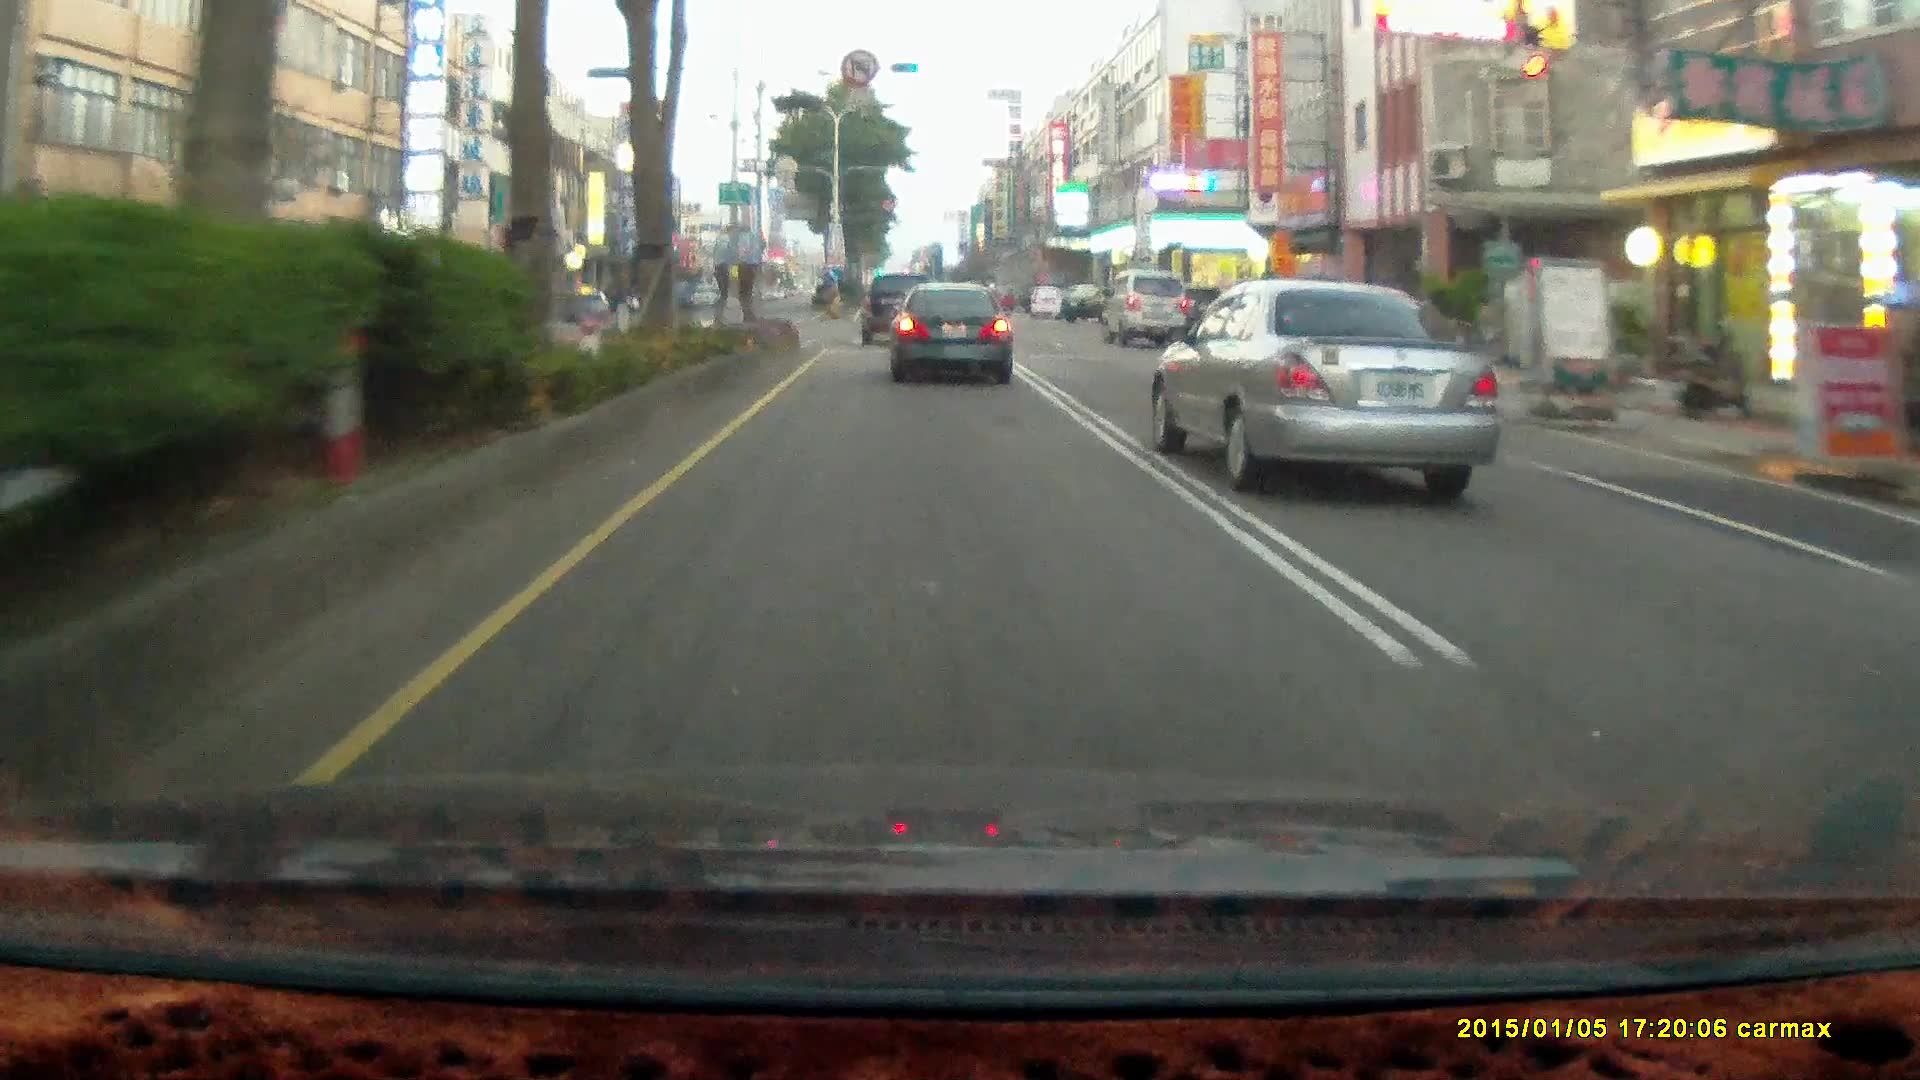vehicle: (1153, 284, 1507, 493), (889, 282, 1017, 389), (889, 281, 1011, 384), (1102, 270, 1189, 353), (1102, 270, 1189, 349), (861, 276, 940, 353), (861, 273, 938, 345), (1062, 284, 1126, 324), (1029, 287, 1065, 319), (578, 295, 608, 315)
